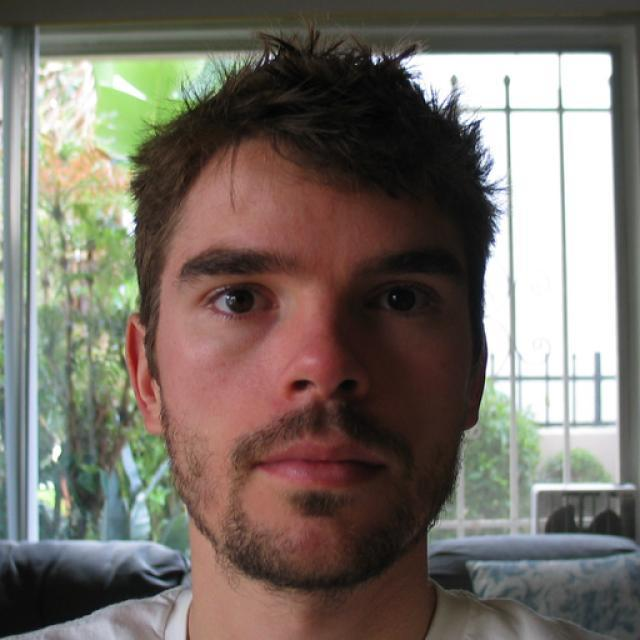neutral: (158, 148, 472, 586)
